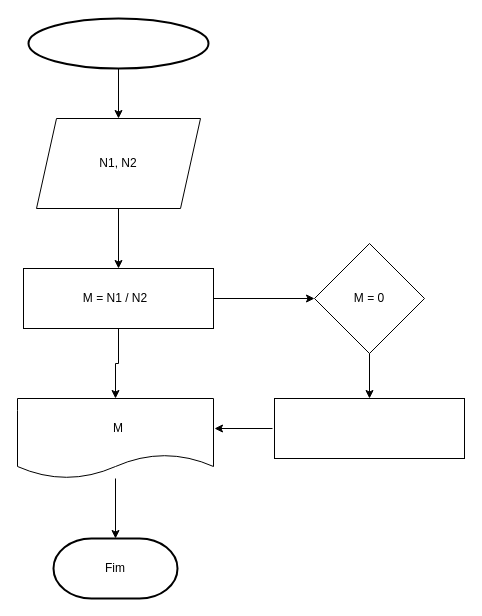
This 482x616 diagram has some shape labels left out. Each missing label, with the centre of its shape:
M = 1: point 369,428
Start: point 118,43
